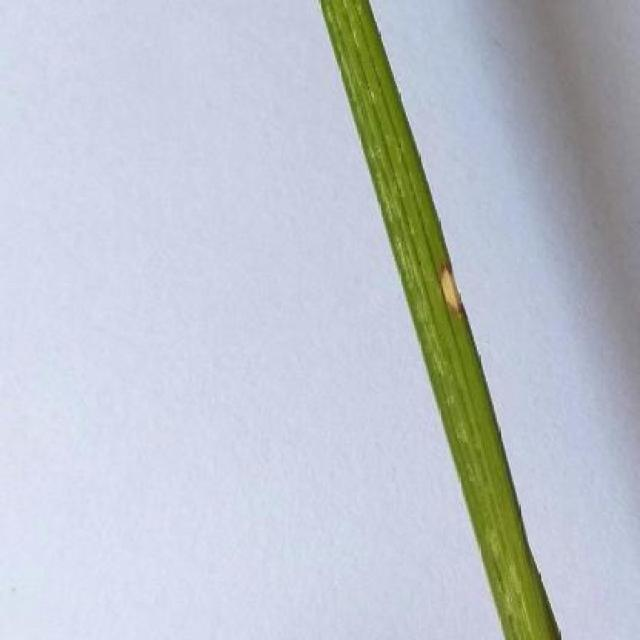Bacterial_Leaf_Blight: (422, 251, 481, 329)
